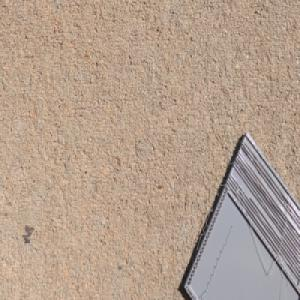PlasticPart: (181, 129, 300, 300)
